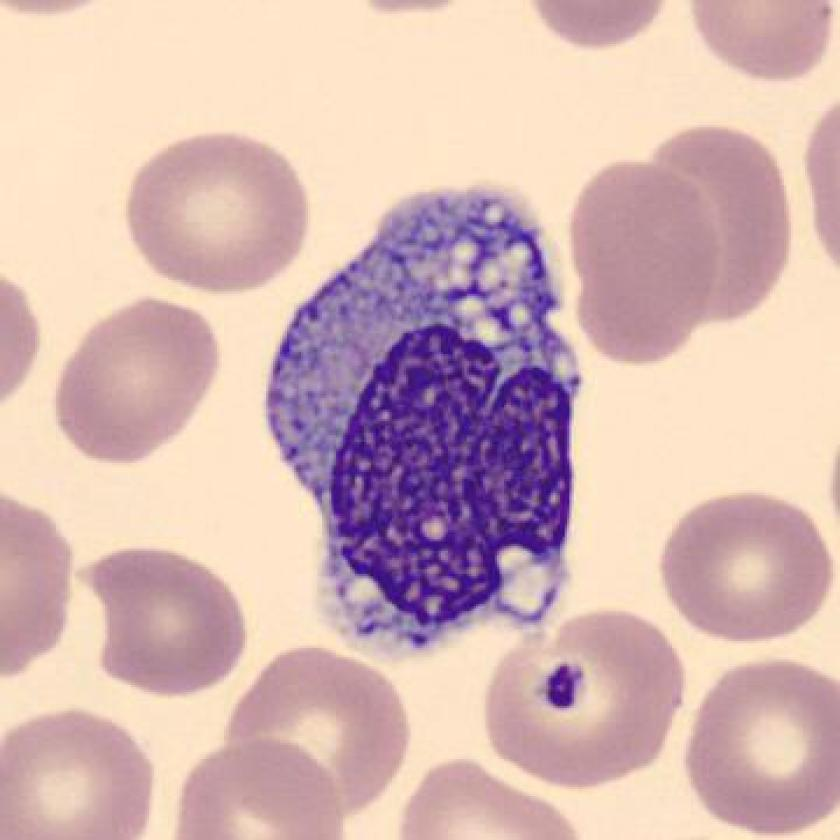monocyte: (244, 163, 601, 677)
